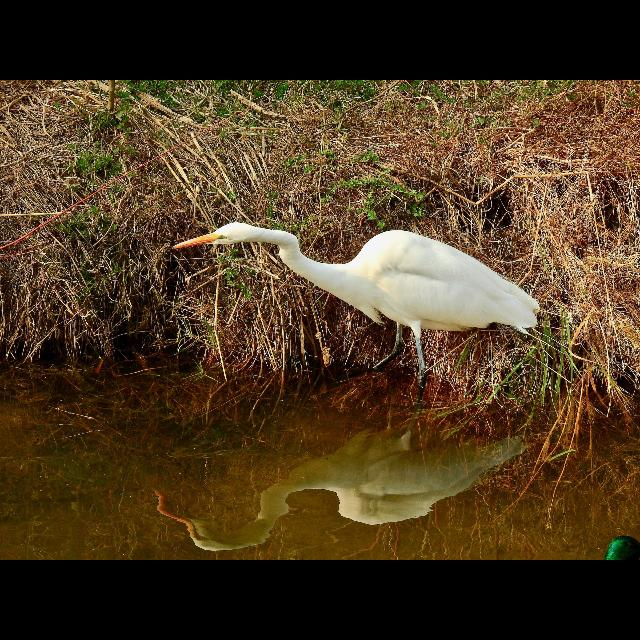egret: (165, 206, 548, 390)
